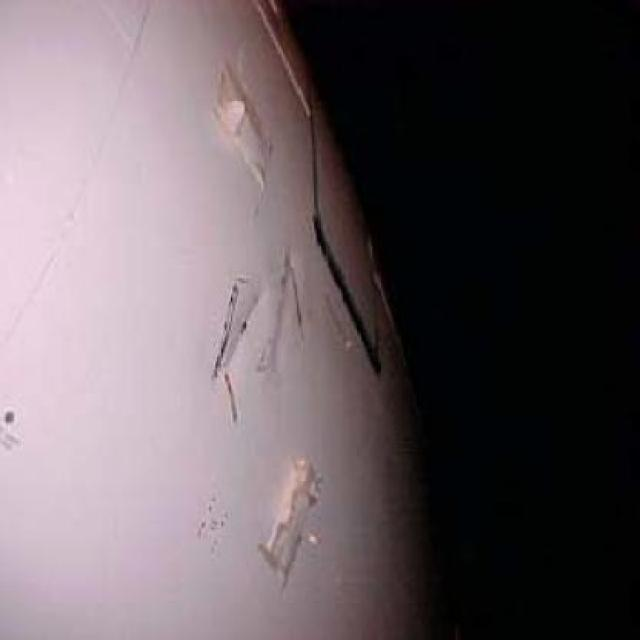dent: (271, 242, 305, 378), (220, 284, 261, 368)
